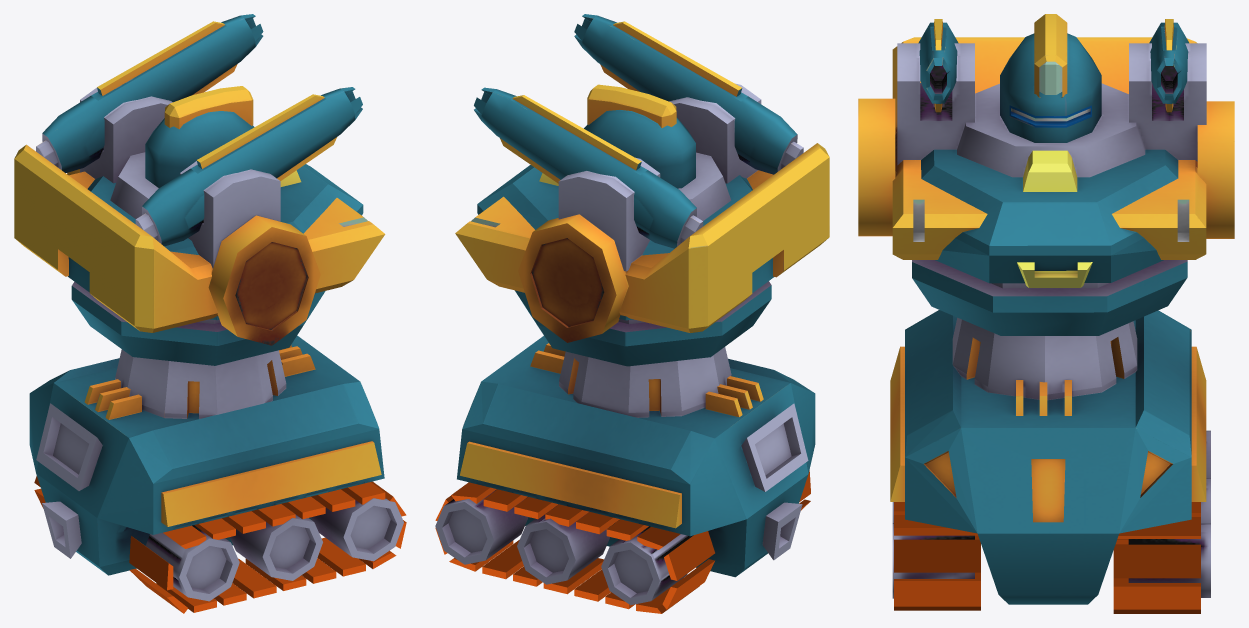
File: Player_Idle9.obj
3 renders of one model, left to right at view 1: azimuth 30°, elevation 25°; view 2: azimuth 150°, elevation 25°; view 3: azimuth 270°, elevation 25°, orthographic. The views are drawn at different scales.
Parts seen in each view (by area): view 1: Object004, Object008, Object014, Box009, Box017; view 2: Object004, Object008, Object014, Box009, Box016; view 3: Object004, Object008, Box016, Box017, Object014, Box009.
Part boxes in pixels (x1,y1,x2,y2): Object004: (14, 86, 385, 365); Object008: (29, 335, 384, 575); Object014: (36, 14, 362, 246); Box009: (145, 498, 403, 601); Box017: (129, 481, 406, 613); Object004: (455, 83, 829, 366); Object008: (457, 336, 815, 577); Object014: (474, 14, 803, 248); Box009: (435, 489, 689, 605); Box016: (435, 482, 714, 613); Object004: (858, 14, 1234, 335); Object008: (890, 310, 1206, 604); Box016: (1113, 502, 1200, 613); Box017: (894, 502, 980, 610); Object014: (918, 19, 1188, 112); Box009: (892, 430, 1210, 598).
Size of the model in its own units: 54.79 by 83.82 by 52.49.
Materials: 2 (1 with a texture image).
